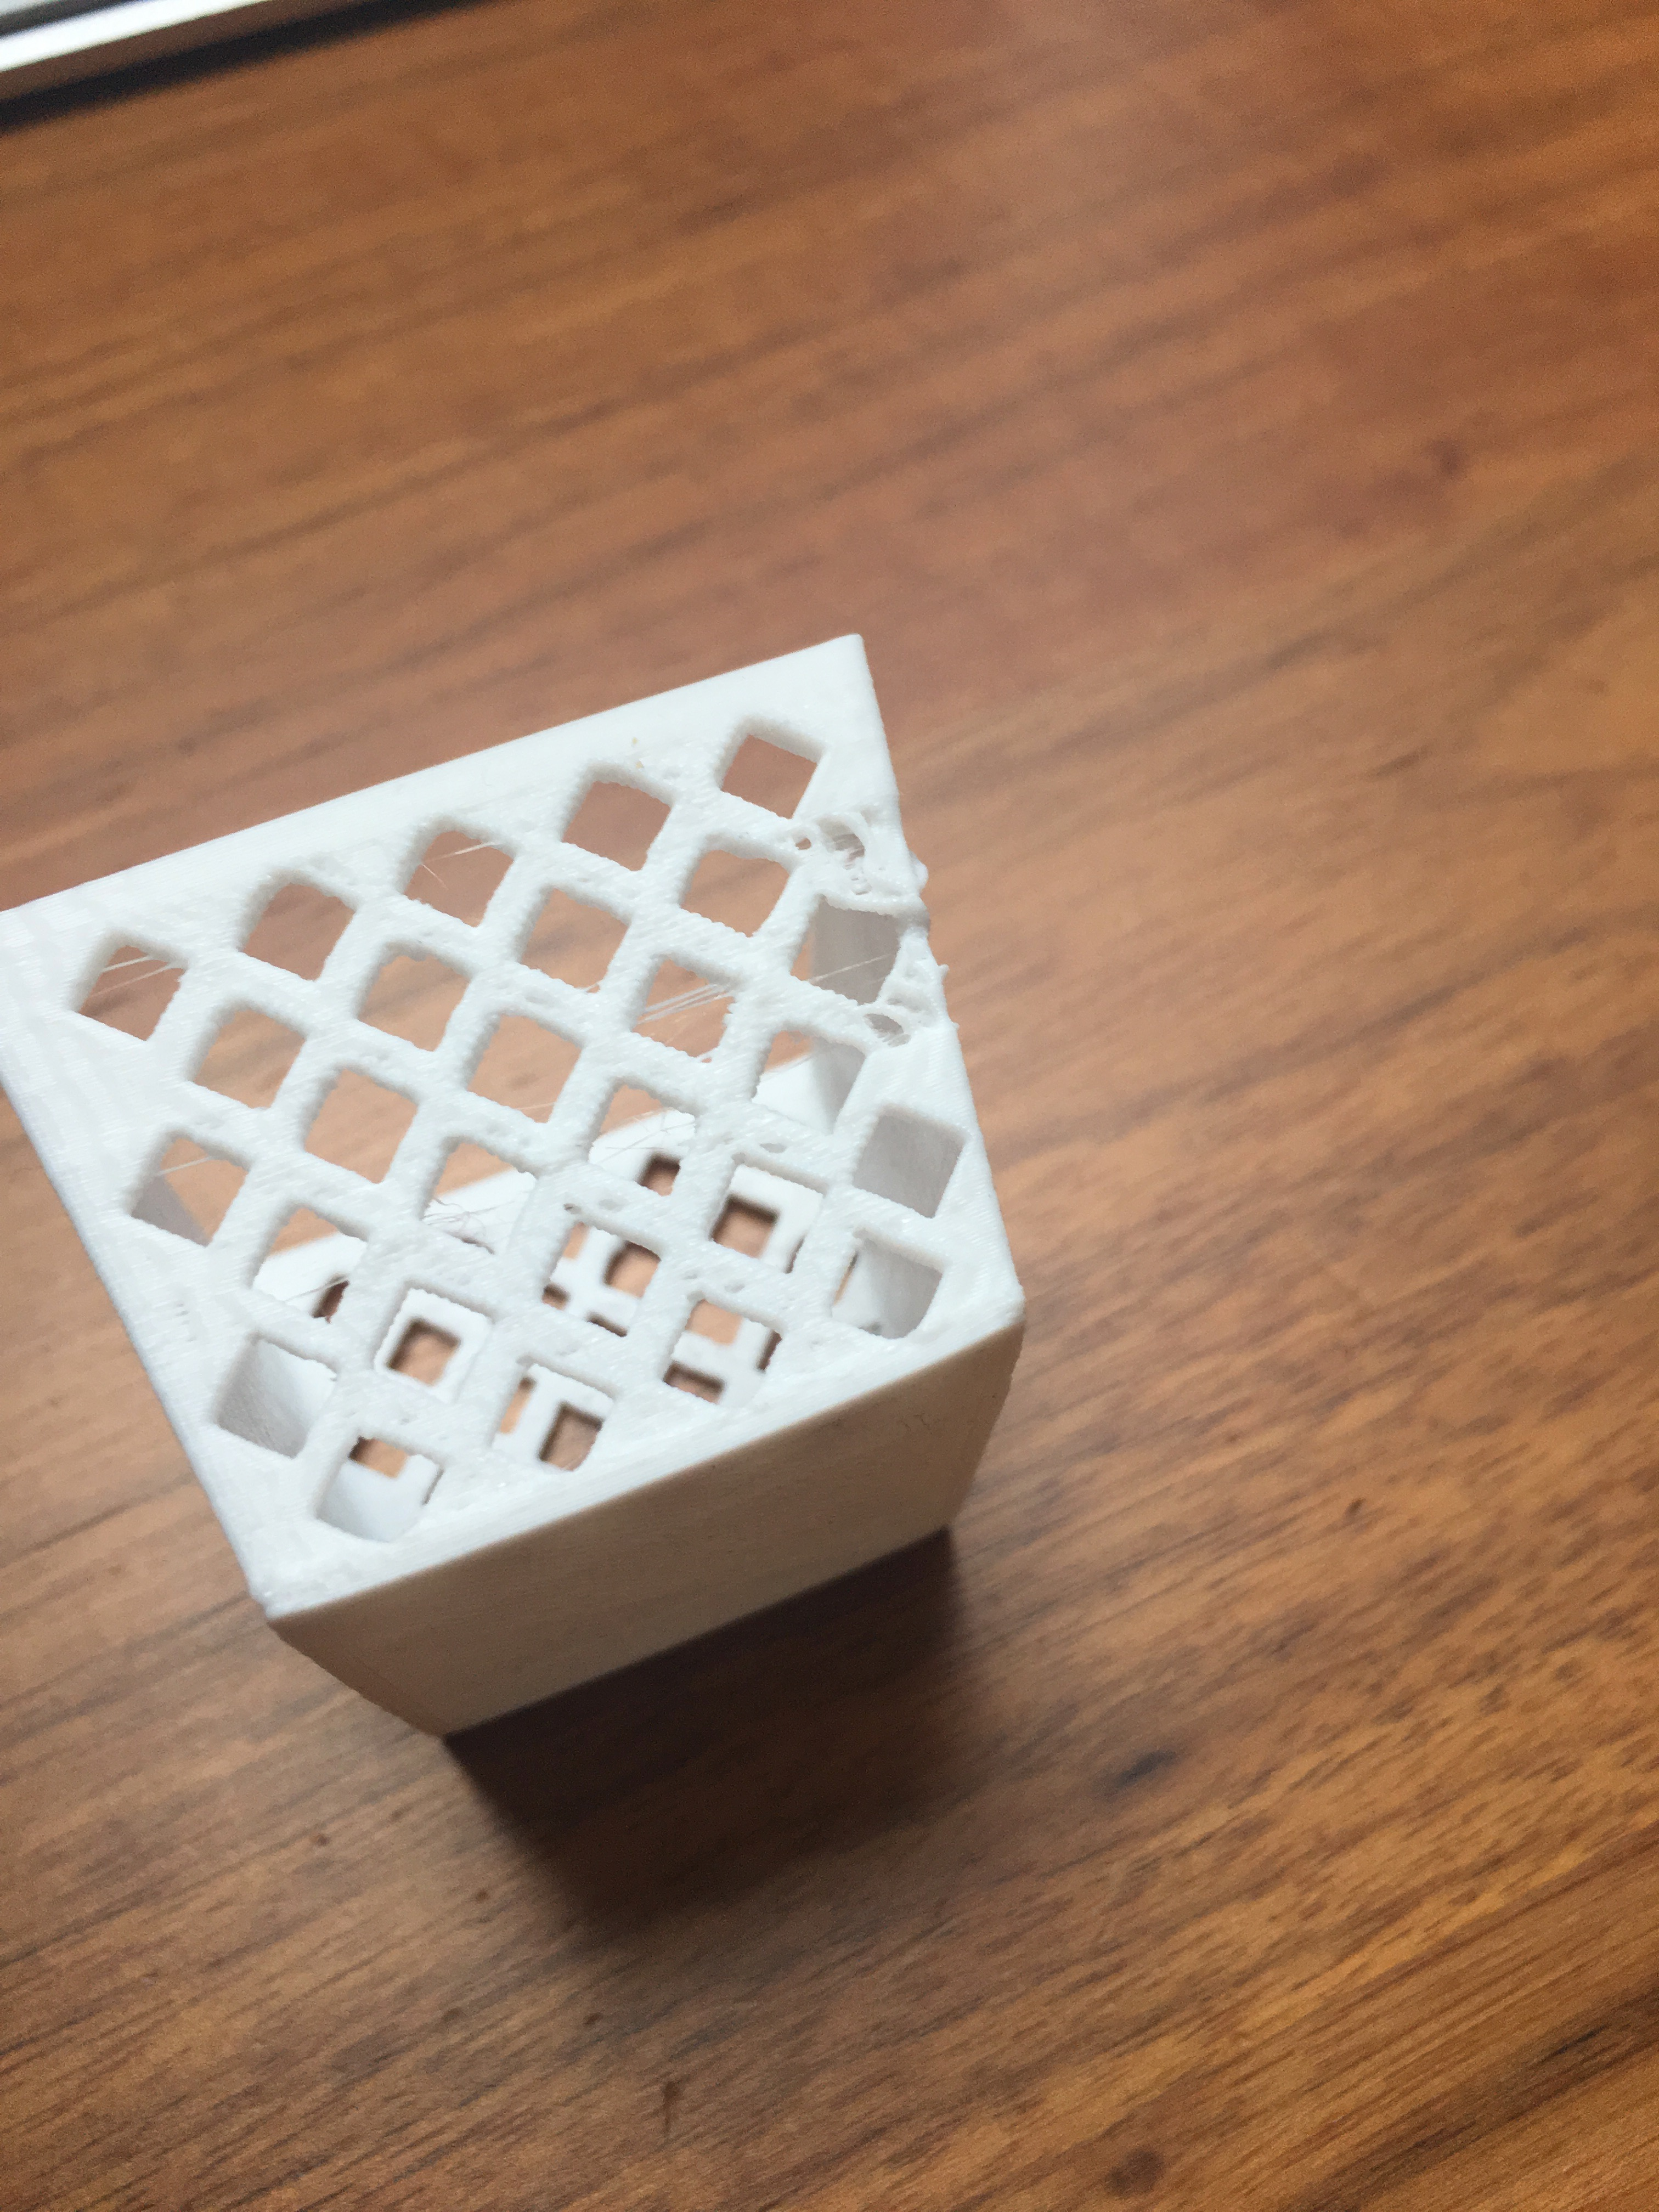3dpstringing: (70, 934, 202, 1005), (617, 981, 755, 1043), (425, 815, 535, 885), (404, 1184, 525, 1247), (791, 958, 906, 993), (138, 1148, 239, 1186)
3dpunderextrusion: (774, 813, 929, 895), (824, 1000, 972, 1055), (695, 1123, 817, 1167), (544, 1181, 648, 1231), (662, 1261, 774, 1305), (462, 1115, 563, 1162), (498, 977, 587, 1022), (376, 1395, 434, 1440)
